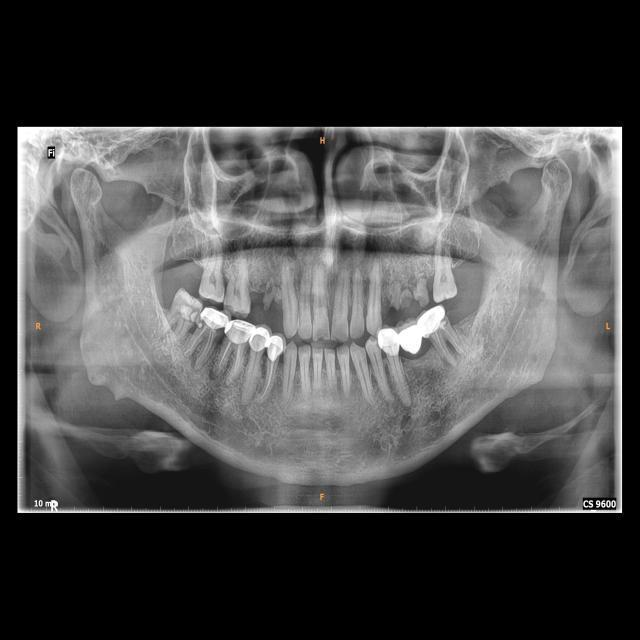kanal-tedavisi: (189, 326, 214, 360), (221, 342, 243, 378), (261, 362, 279, 398)
kaplama: (419, 305, 447, 336), (226, 318, 255, 342), (378, 328, 401, 355), (200, 308, 228, 329), (266, 334, 284, 359), (250, 327, 268, 350)
kirik: (392, 286, 430, 308), (252, 284, 281, 312)
kopru: (392, 315, 428, 361)
